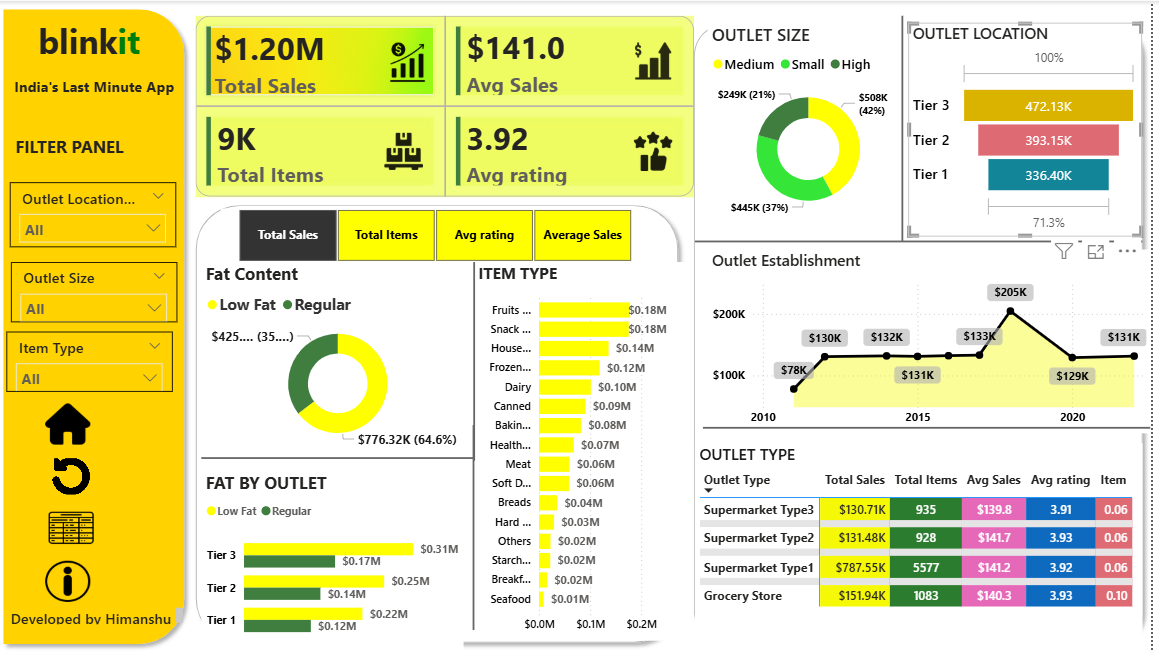

The page's visual inventory and layout, read from the dashboard file:
{"tool":"powerbi","page":{"name":"Page 1","canvas":[1280,720],"ordinal":0},"visuals":[{"type":"shape","box":[213.1,217.2,552,502.2],"z":0},{"type":"shape","box":[0,0,218.6,720.8],"z":1000},{"type":"textbox","box":[32,12.8,145.4,65.5],"z":2000},{"type":"textbox","box":[16.6,78.9,206.1,38.7],"z":3000},{"type":"cardVisual","fields":{"Data":["BlinkIT Grocery Data.Total Sales","BlinkIT Grocery Data.Average Sales","BlinkIT Grocery Data.Total Items","BlinkIT Grocery Data.Avg rating"]},"box":[222.7,16.6,552,200.6],"z":4000},{"type":"slicer","fields":{"Values":["Parameter.Parameter"]},"box":[250.4,229.7,473.2,59.5],"z":5000},{"type":"donutChart","title":" Fat Content","fields":{"Y":["BlinkIT Grocery Data.Total Sales"],"Category":["BlinkIT Grocery Data.Item Fat Content"]},"box":[228.3,289.2,301.6,210.3],"z":6000},{"type":"clusteredBarChart","title":"FAT BY OUTLET","fields":{"Y":["BlinkIT Grocery Data.Total Sales"],"Category":["BlinkIT Grocery Data.Outlet Location Type"],"Series":["BlinkIT Grocery Data.Item Fat Content"]},"box":[228.3,520.2,290.5,199.2],"z":7000},{"type":"barChart","title":"ITEM TYPE","fields":{"Y":["BlinkIT Grocery Data.Total Sales"],"Category":["BlinkIT Grocery Data.Item Type"]},"box":[529.9,289.2,235.2,419.2],"z":8000},{"type":"shape","box":[1185.7,78.9,12.5,225.5],"z":9000},{"type":"shape","box":[228.3,499.5,301.6,12.5],"z":10000},{"type":"shape","box":[518.8,289.2,23.5,220],"z":11000},{"type":"shape","box":[475.9,469,107.9,226.9],"z":12000},{"type":"shape","box":[765.1,16.6,514.7,702.8],"z":13000},{"type":"donutChart","title":"OUTLET SIZE","fields":{"Category":["BlinkIT Grocery Data.Outlet Size"],"Y":["BlinkIT Grocery Data.Total Sales"]},"box":[788.6,23.5,222.7,224.1],"z":14000},{"type":"funnel","title":"OUTLET LOCATION","fields":{"Y":["Sum(BlinkIT Grocery Data.Sales)"],"Category":["BlinkIT Grocery Data.Outlet Location Type"]},"box":[1011.4,23.5,258.7,236.6],"z":15000},{"type":"lineChart","title":" Outlet Establishment ","fields":{"Category":["BlinkIT Grocery Data.Outlet Establishment Year"],"Y":["BlinkIT Grocery Data.Total Sales"]},"box":[788.6,275.3,491.2,203.4],"z":16000},{"type":"pivotTable","title":"OUTLET TYPE","fields":{"Rows":["BlinkIT Grocery Data.Outlet Type"],"Values":["BlinkIT Grocery Data.Total Sales","BlinkIT Grocery Data.Total Items","BlinkIT Grocery Data.Average Sales","BlinkIT Grocery Data.Avg rating","Avg(BlinkIT Grocery Data.Item Visibility)"]},"box":[774.8,489.8,495.3,229.7],"z":17000},{"type":"shape","box":[774.8,260.1,495.3,12.5],"z":18000},{"type":"shape","box":[784.5,467.6,495.3,11.1],"z":19000},{"type":"shape","box":[998.9,16.6,12.5,250.4],"z":20000},{"type":"slicer","fields":{"Values":["BlinkIT Grocery Data.Outlet Location Type"]},"box":[16.6,200.6,184,71.9],"z":21000},{"type":"slicer","fields":{"Values":["BlinkIT Grocery Data.Outlet Size"]},"box":[18,289.2,184,66.4],"z":22000},{"type":"slicer","fields":{"Values":["BlinkIT Grocery Data.Item Type"]},"box":[12.5,366.6,184,66.4],"z":23000},{"type":"textbox","box":[18,142.5,178.5,40.1],"z":24000},{"type":"actionButton","box":[55.3,445.5,49.8,45.7],"z":25000},{"type":"actionButton","box":[59.5,506.4,49.8,40.1],"z":26000},{"type":"actionButton","box":[55.3,619.8,49.8,45.7],"z":27000},{"type":"textbox","box":[12.5,666.9,200.6,29.1],"z":28000},{"type":"actionButton","box":[59.5,560.3,49.8,45.7],"z":29000}]}

Visuals, with their boxes in screenshot pixels (x1, y1, x2, y2), scaled from the page's 1280x720 canvas onto the 1159x652 screenshot:
shape: 193,197,693,651
shape: 0,0,198,651
textbox: 29,12,161,71
textbox: 15,71,202,106
cardVisual - BlinkIT Grocery Data.Total Sales x BlinkIT Grocery Data.Average Sales: 202,15,701,197
slicer - Parameter.Parameter: 227,208,655,262
" Fat Content" donutChart: 207,262,480,452
"FAT BY OUTLET" clusteredBarChart: 207,471,470,651
"ITEM TYPE" barChart: 480,262,693,641
shape: 1074,71,1085,276
shape: 207,452,480,464
shape: 470,262,491,461
shape: 431,425,529,630
shape: 693,15,1158,651
"OUTLET SIZE" donutChart: 714,21,916,224
"OUTLET LOCATION" funnel: 916,21,1150,236
" Outlet Establishment " lineChart: 714,249,1158,433
"OUTLET TYPE" pivotTable: 702,444,1150,651
shape: 702,236,1150,247
shape: 710,423,1158,433
shape: 904,15,916,242
slicer - BlinkIT Grocery Data.Outlet Location Type: 15,182,182,247
slicer - BlinkIT Grocery Data.Outlet Size: 16,262,183,322
slicer - BlinkIT Grocery Data.Item Type: 11,332,178,392
textbox: 16,129,178,165
actionButton: 50,403,95,445
actionButton: 54,459,99,495
actionButton: 50,561,95,603
textbox: 11,604,193,630
actionButton: 54,507,99,549
